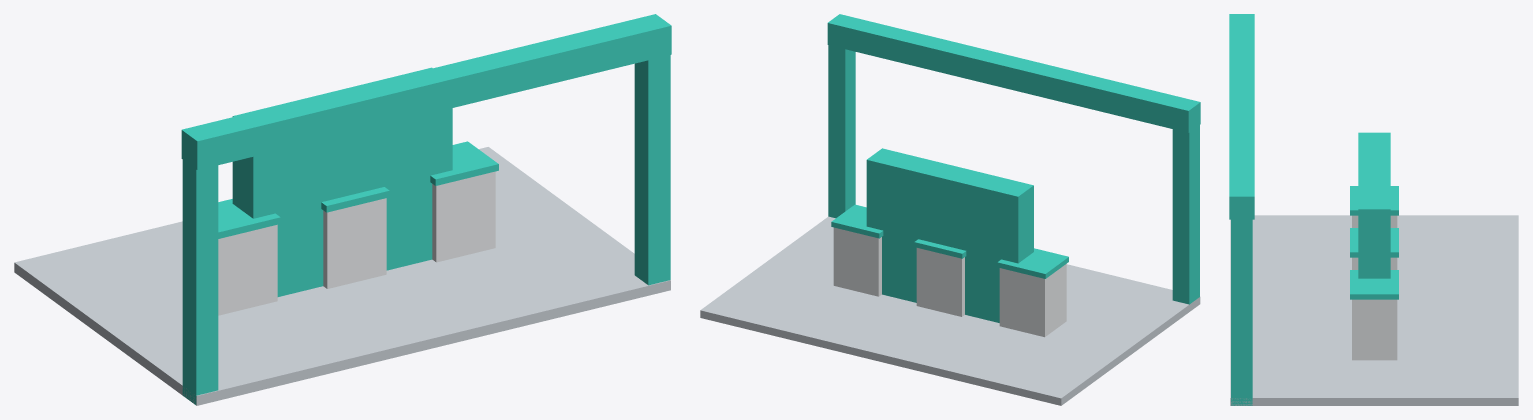
The picture shows the model from 3 angles, left to right: view 1: azimuth 30°, elevation 25°; view 2: azimuth 150°, elevation 25°; view 3: azimuth 270°, elevation 25°; orthographic projection. The views are drawn at different scales.
Parts seen in each view (by area): view 1: Exhibition Booth Concept; view 2: Exhibition Booth Concept; view 3: Exhibition Booth Concept.
Boxes of the visible parts, box(x1,y1,x2,y2) form: Exhibition Booth Concept: box(14, 14, 671, 405); Exhibition Booth Concept: box(700, 14, 1200, 405); Exhibition Booth Concept: box(1229, 14, 1518, 405).
Size of the model in its own units: 6 by 3.2 by 4.02.
